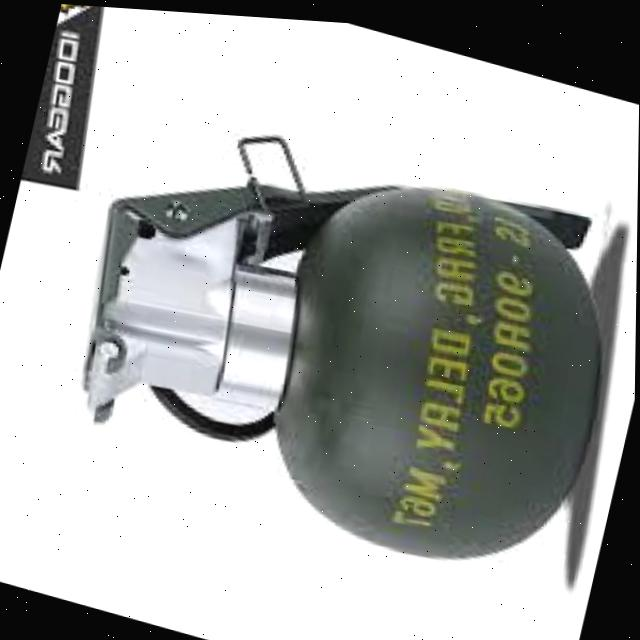grenade: (17, 50, 639, 629)
